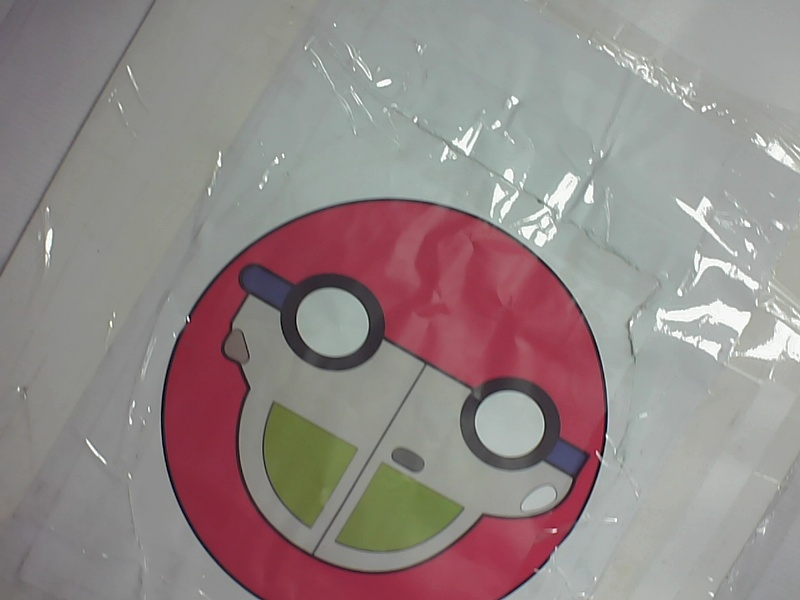areaC: (131, 182, 619, 598)
